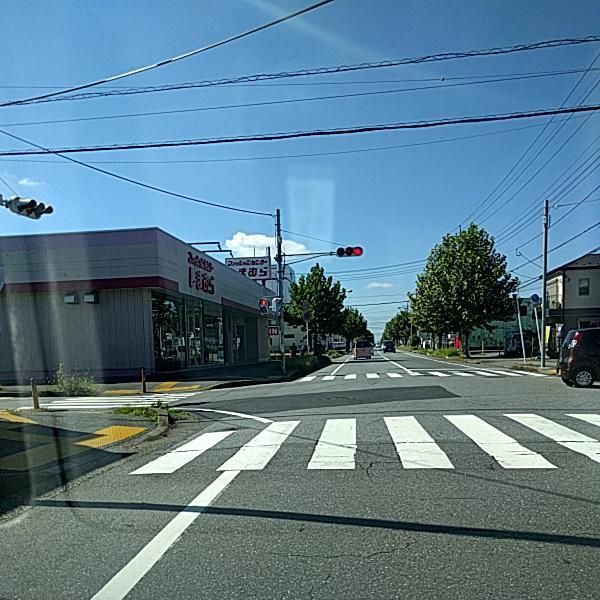D00: (256, 527, 442, 590), (355, 458, 396, 472)
